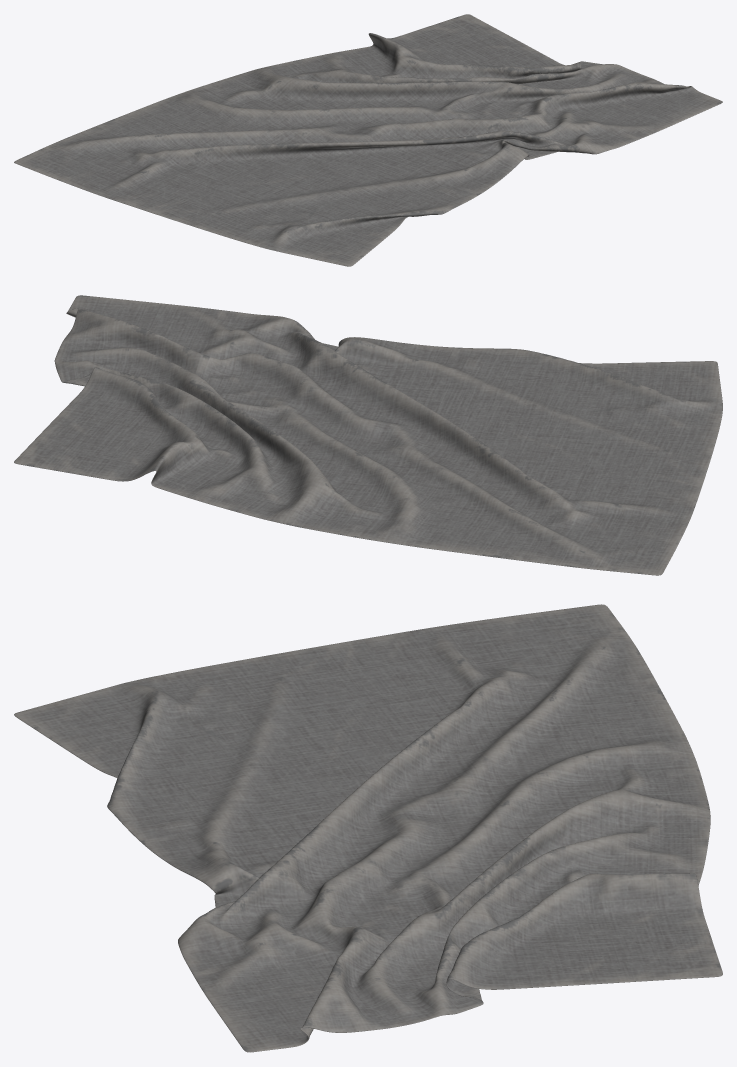
The model's file is carpet_ruined_old_free.glb.
3 renders of one model, top to bottom at view 1: azimuth 30°, elevation 25°; view 2: azimuth 150°, elevation 25°; view 3: azimuth 270°, elevation 25°, orthographic. The views are drawn at different scales.
Parts seen in each view (by area): view 1: Plane.001; view 2: Plane.001; view 3: Plane.001.
Boxes of the visible parts, bbox=[...] form: Plane.001: bbox=[14, 14, 722, 266]; Plane.001: bbox=[14, 295, 722, 575]; Plane.001: bbox=[14, 604, 722, 1052].
Bounding box in the file's own units: 13.07 × 0.3497 × 8.74.
Materials: 1 (1 with a texture image).
